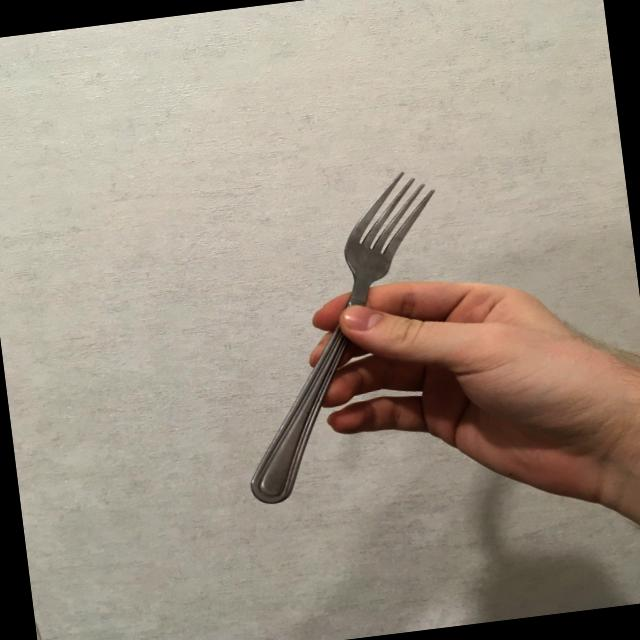fork: (216, 167, 477, 507)
